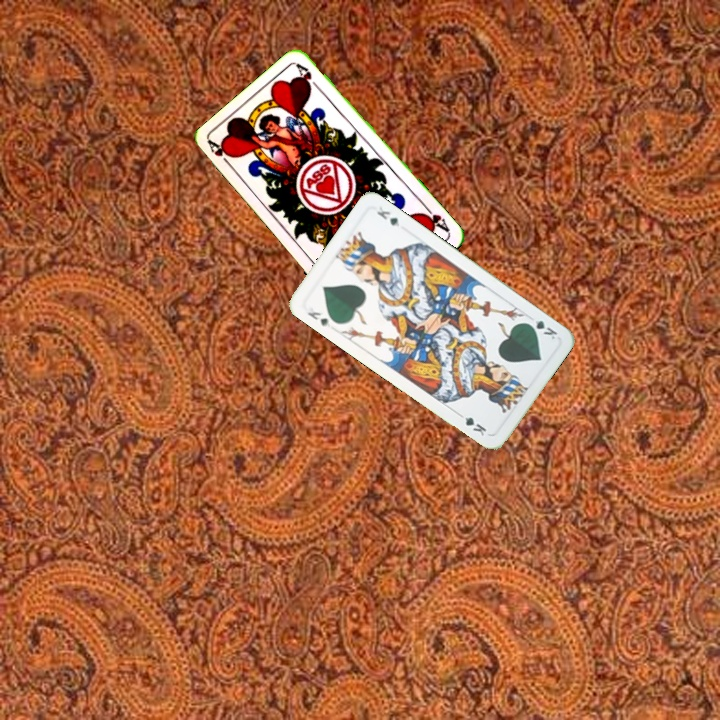GK: (522, 315, 560, 342), (303, 307, 334, 330)
HA: (417, 202, 453, 235), (205, 137, 236, 172)
